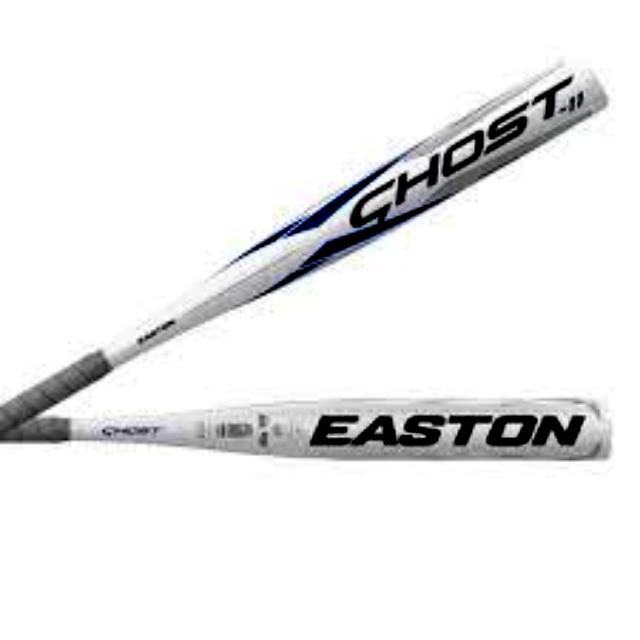baseball bat: (0, 57, 608, 443)
